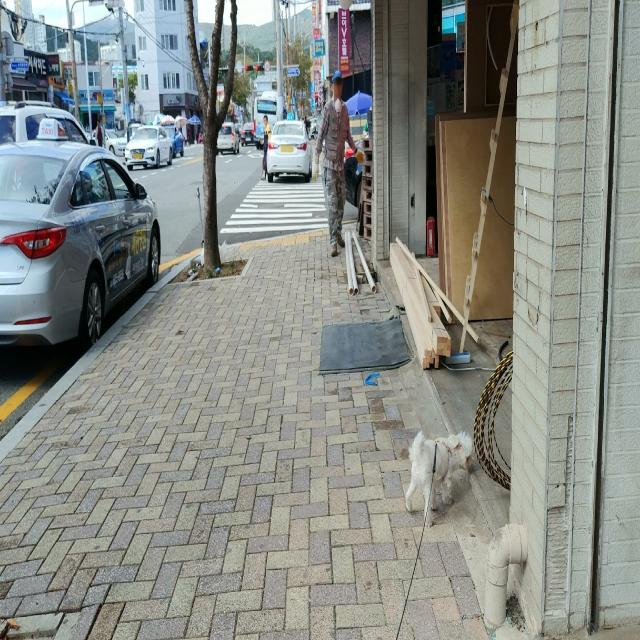횡단보도: (218, 160, 329, 236)
